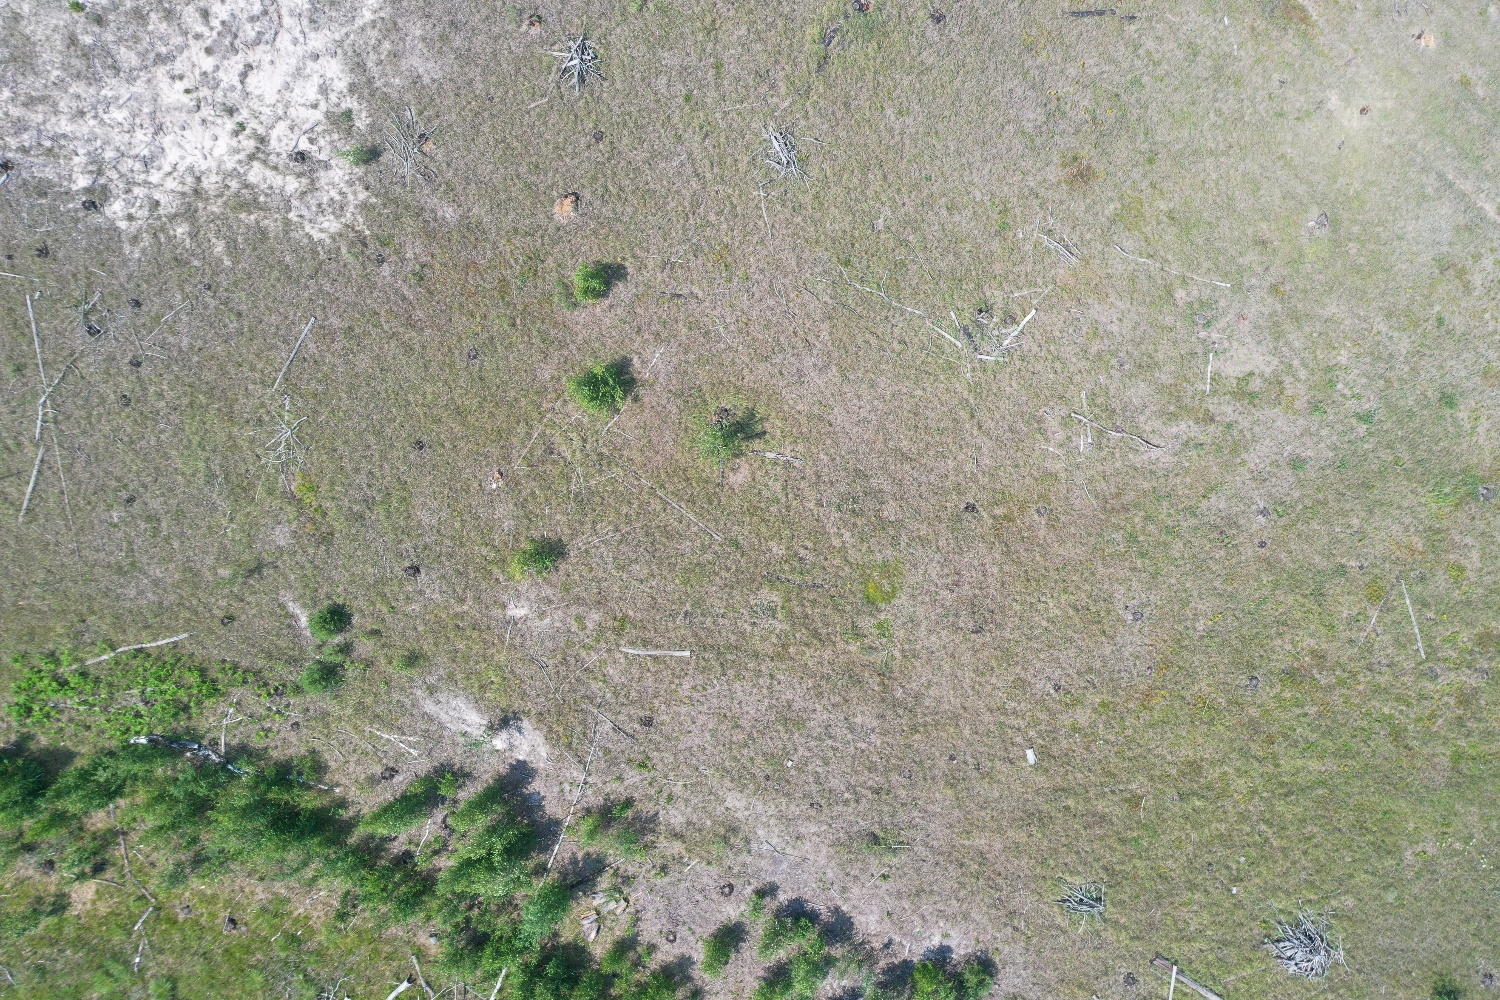branches: (1257, 900, 1352, 978), (549, 32, 605, 92), (760, 124, 802, 180), (1052, 883, 1104, 914)
